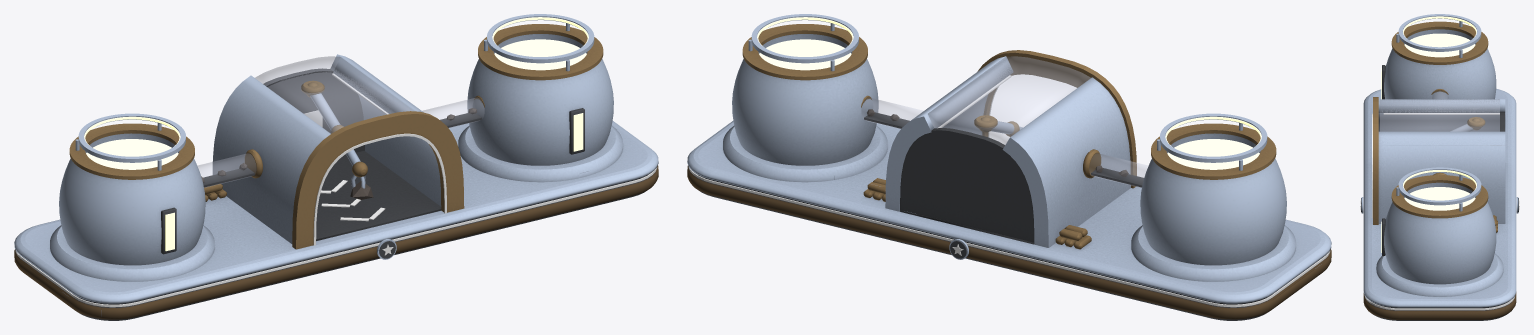
The model's file is SM_Evo_MineralComplex.fbx.
The picture shows the model from 3 angles, left to right: view 1: azimuth 30°, elevation 25°; view 2: azimuth 150°, elevation 25°; view 3: azimuth 270°, elevation 25°; orthographic projection. The views are drawn at different scales.
Parts seen in each view (by area): view 1: SMN_Evo_MineralComplex, Emblem_Fx_MineralComplex; view 2: SMN_Evo_MineralComplex, Emblem_Fx_MineralComplex; view 3: SMN_Evo_MineralComplex, Emblem_Fx_MineralComplex.
Boxes of the visible parts, x1,y1,x2,y2 form: SMN_Evo_MineralComplex: (14, 14, 658, 320); Emblem_Fx_MineralComplex: (15, 17, 657, 307); SMN_Evo_MineralComplex: (687, 14, 1331, 320); Emblem_Fx_MineralComplex: (688, 17, 1330, 307); SMN_Evo_MineralComplex: (1361, 14, 1518, 320); Emblem_Fx_MineralComplex: (1360, 16, 1519, 310).
Size of the model in its own units: 2.84 by 0.658 by 0.877.
